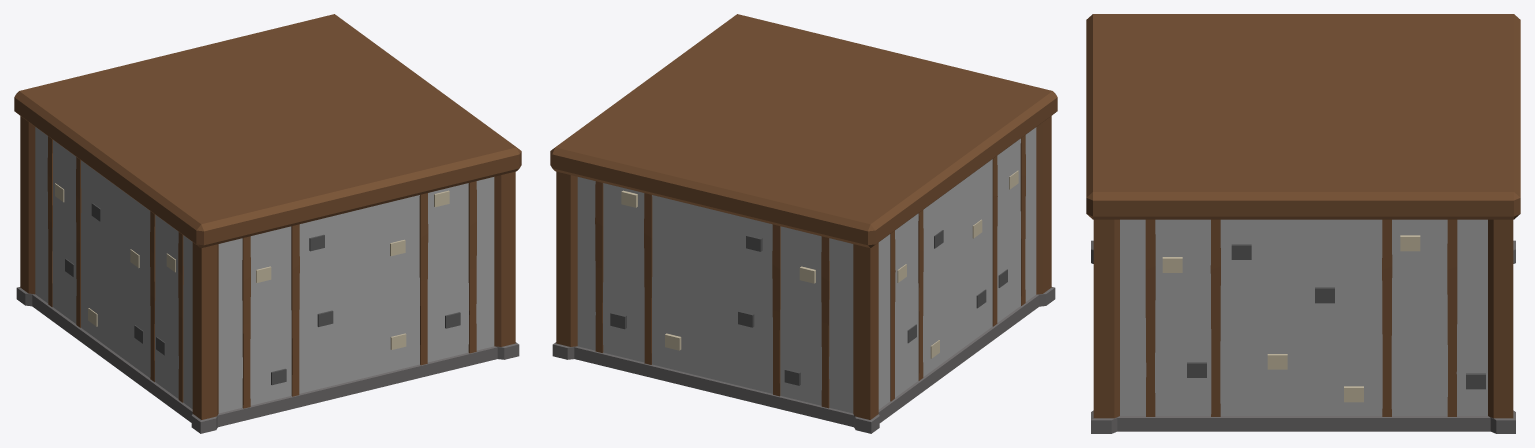
Rendered from house_base.fbx.
3 renders of one model, left to right at view 1: azimuth 30°, elevation 25°; view 2: azimuth 150°, elevation 25°; view 3: azimuth 270°, elevation 25°, orthographic. The views are drawn at different scales.
Visible parts, largest first — view 1: House_base; view 2: House_base; view 3: House_base.
Part boxes in pixels (x1=…): House_base: x1=14, y1=14, x2=521, y2=433; House_base: x1=550, y1=14, x2=1057, y2=433; House_base: x1=1086, y1=14, x2=1520, y2=433.
Size of the model in its own units: 532 by 326 by 532.
